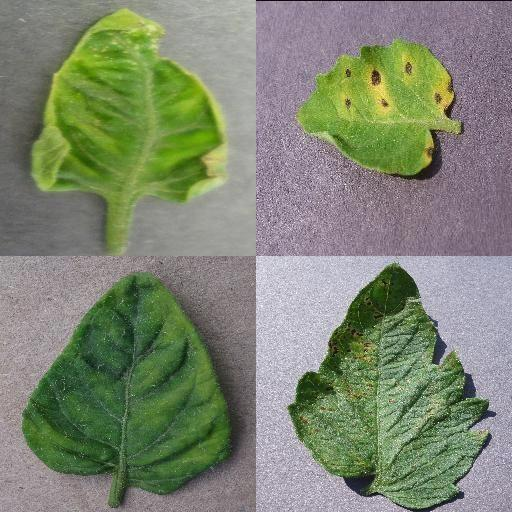Septoria: (286, 262, 490, 512), (298, 40, 456, 174)
Yellow Leaf Curl Virus: (20, 268, 234, 496), (31, 8, 228, 204)
